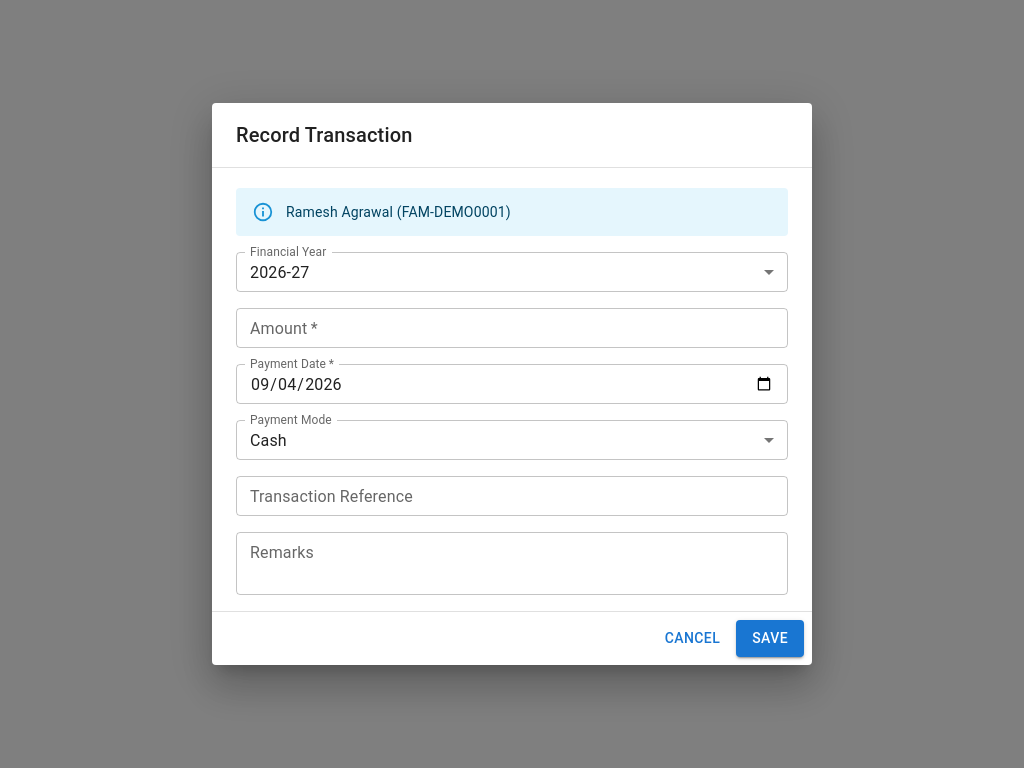
Test: RecordTransactionDialog › rejects Save with a clear message when Amount is left blank, and highlights the field
Click the button "Save" at (770, 639), box [736,620,804,657]
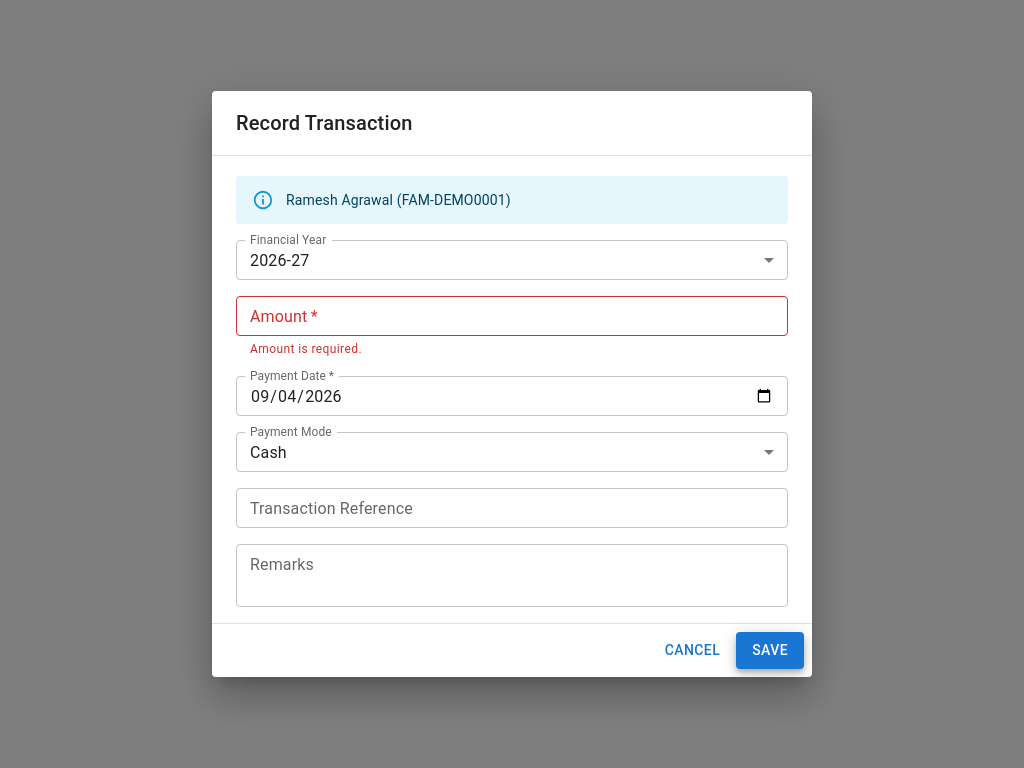
Check: the text "Amount is required." is shown, box [250,342,362,356]
// The message clears once the user starts fixing it.
Type "250" into the number field labelled "Amount *" at (512, 316), box [236,296,788,336]
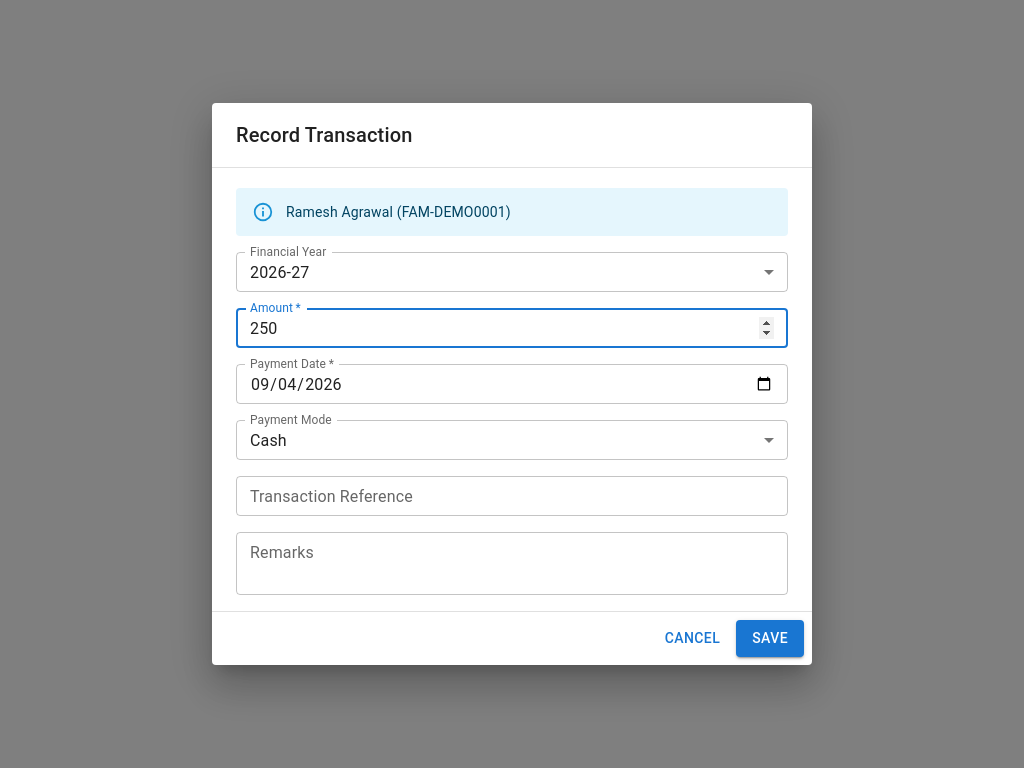
Check: the text "Amount is required" is gone
